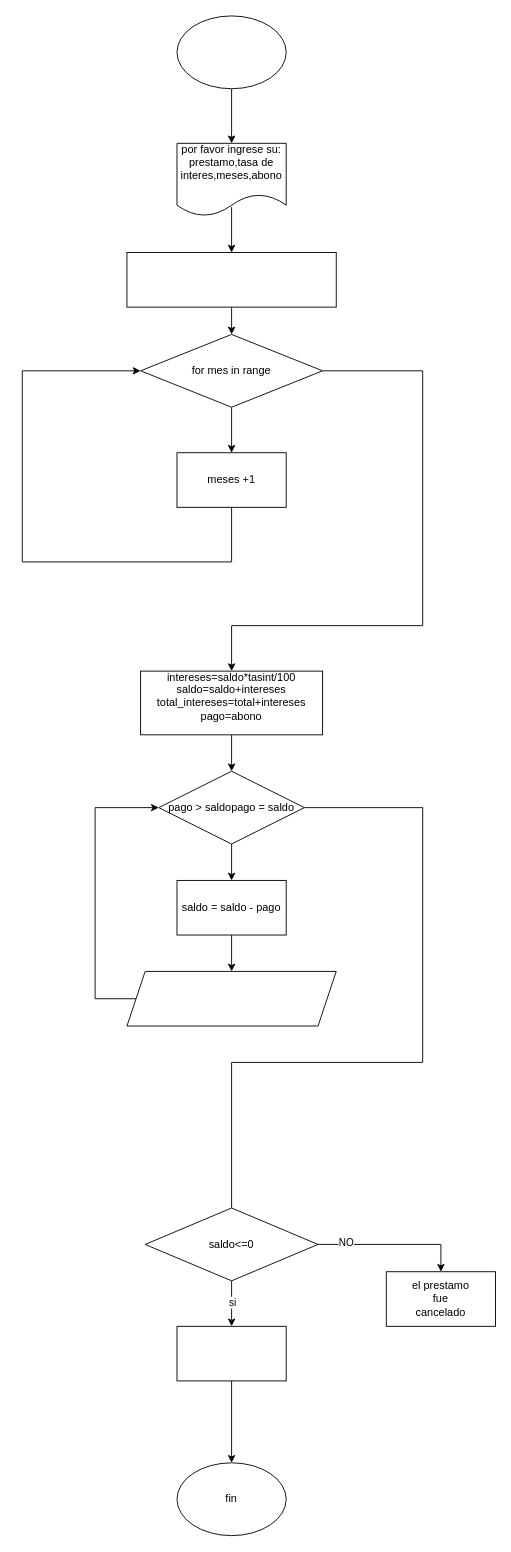
Some shapes in this 511 by 1552 pixel diagram are drawn without their labels. The shapes that lost their labels are listed below. From the top down, each one's centre as x and y in pixels, then its label:
At point 231,52: "Inicio".
At point 231,279: "saldo=prestamo total_intereses=0".
At point 231,998: "mostrar mes ,intereses, abono , saldo pendiente intereses pagados".
At point 231,1353: "existe una deuda pendiente de: saldo".
